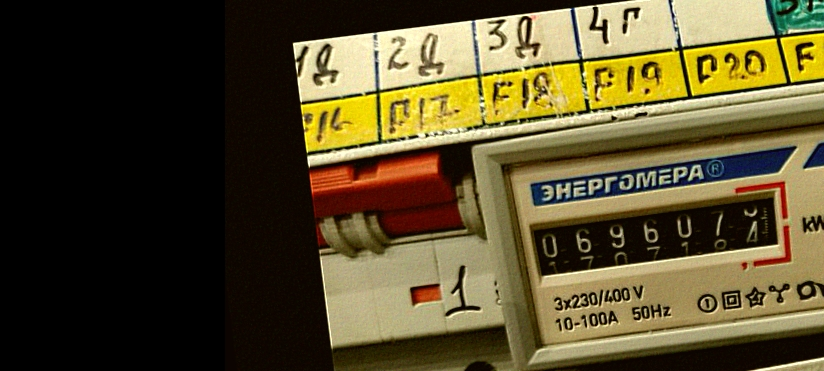0: (674, 209, 696, 241), (541, 230, 561, 260)
4: (743, 216, 763, 247)
6: (574, 225, 595, 255), (642, 214, 662, 245)
7: (708, 206, 731, 239)
9: (607, 221, 628, 251)
screen: (516, 177, 801, 294)
